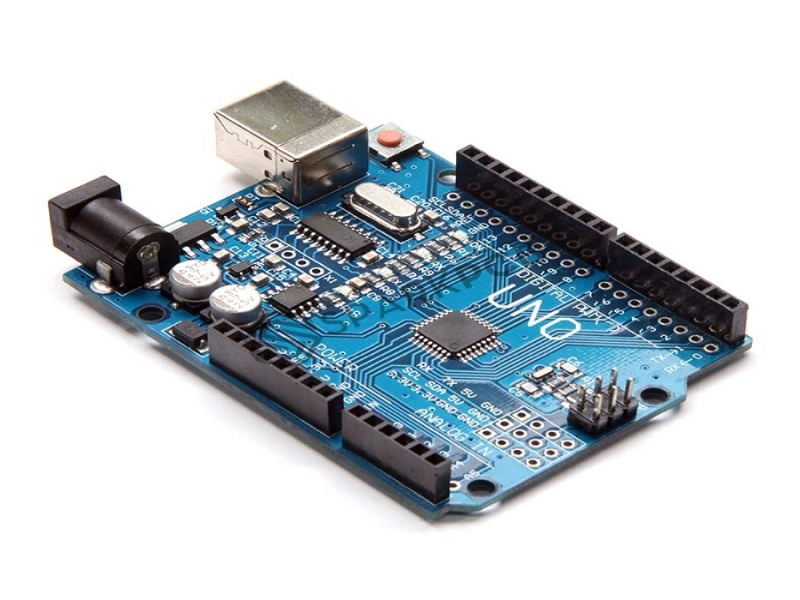uno: (38, 74, 782, 523)
